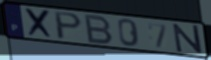0: (117, 17, 140, 48)
7: (147, 23, 168, 49)
B: (84, 13, 115, 46)
N: (171, 23, 205, 55)
P: (54, 11, 84, 41)
X: (24, 7, 55, 40)
